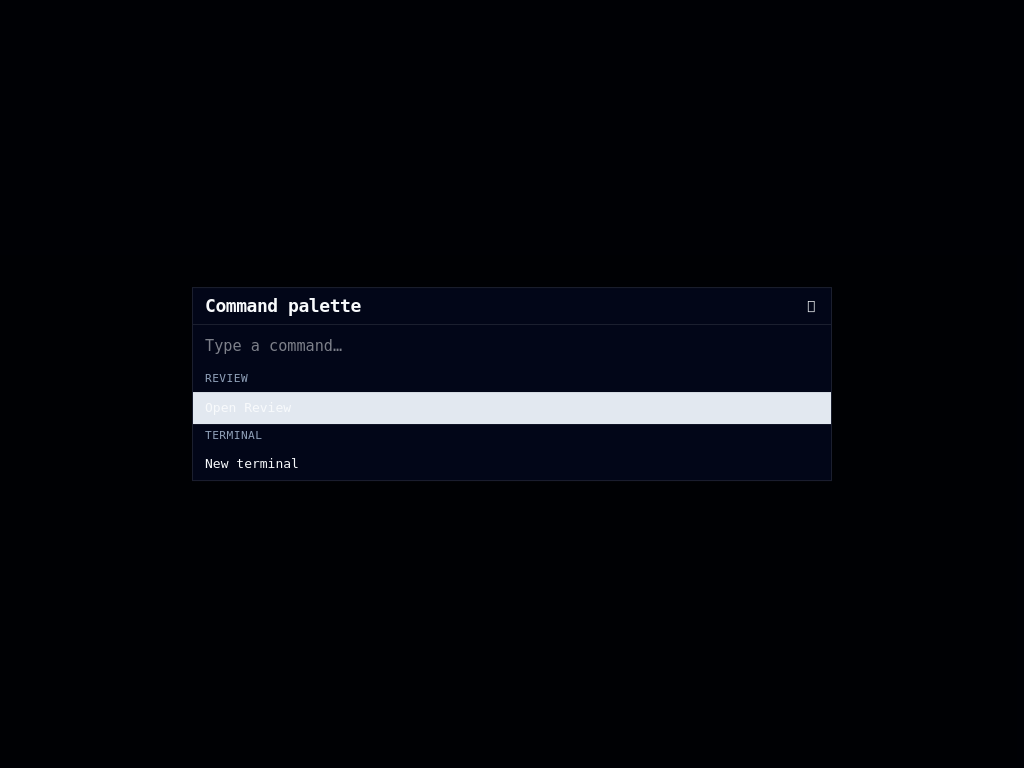
Test case: CommandPalette › filters rows by the typed query
The image size is (1024, 768).
Type "review" into the field with test id "command-palette-search". click: x=512, y=346
box: [193,325,831,367]
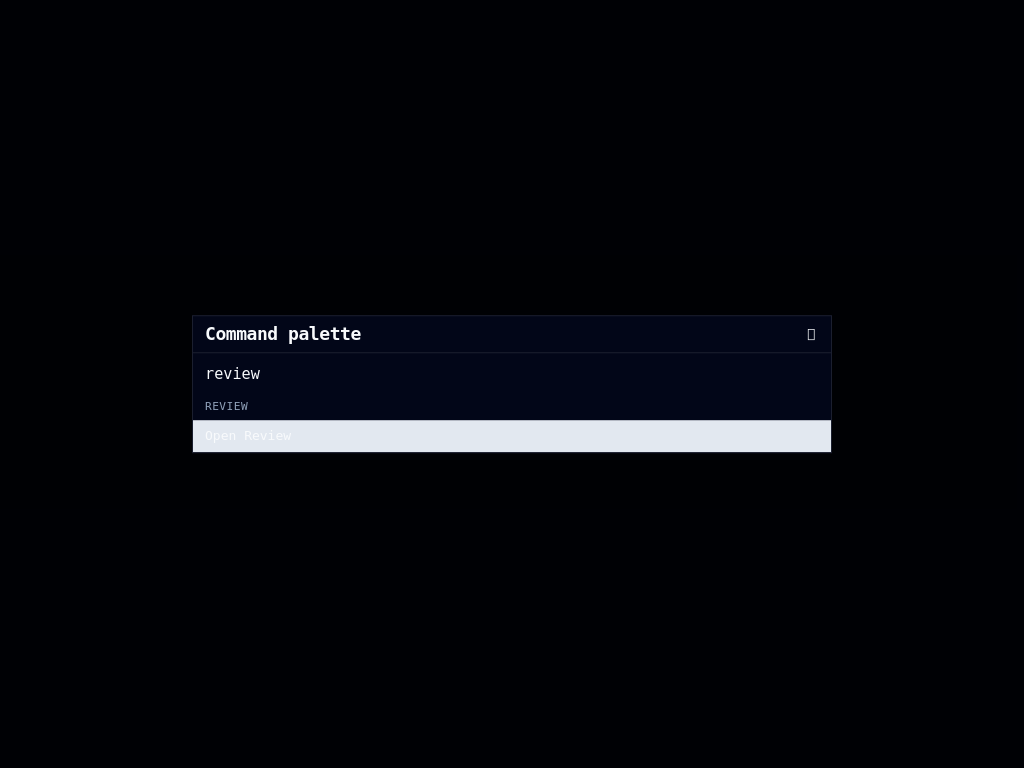
Now the button "New terminal" is gone
